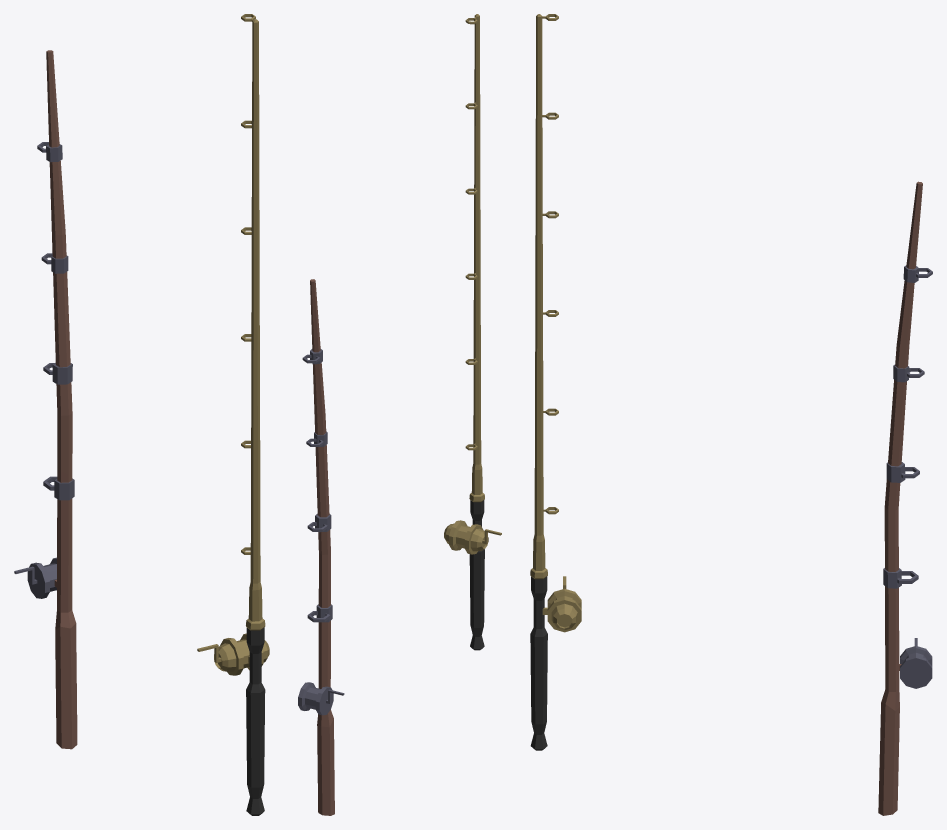
Rendered from Fishing Rod.fbx.
3 views of the same model, side by side, from view 1: azimuth 30°, elevation 25°; view 2: azimuth 150°, elevation 25°; view 3: azimuth 270°, elevation 25° (orthographic). The views are drawn at different scales.
Parts seen in each view (by area): view 1: FishingRod_Lvl2, FishingRod_Lvl4; view 2: FishingRod_Lvl2, FishingRod_Lvl4; view 3: FishingRod_Lvl2, FishingRod_Lvl4.
Boxes of the visible parts, box(x1,y1,x2,y2) form: FishingRod_Lvl2: box(14, 50, 77, 749); FishingRod_Lvl4: box(197, 14, 269, 815); FishingRod_Lvl2: box(298, 279, 344, 815); FishingRod_Lvl4: box(444, 14, 501, 650); FishingRod_Lvl2: box(878, 181, 932, 815); FishingRod_Lvl4: box(530, 14, 581, 750).
Bounding box in the file's own units: 65.65 × 803 × 367.
